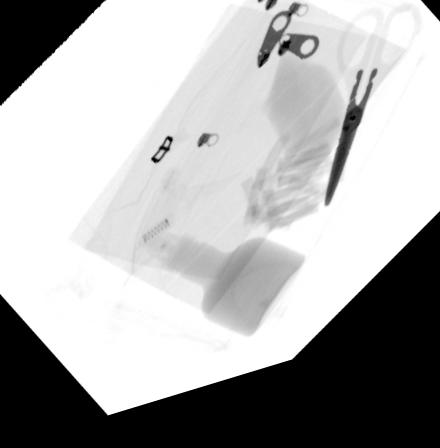Scissors: (325, 26, 425, 227)
